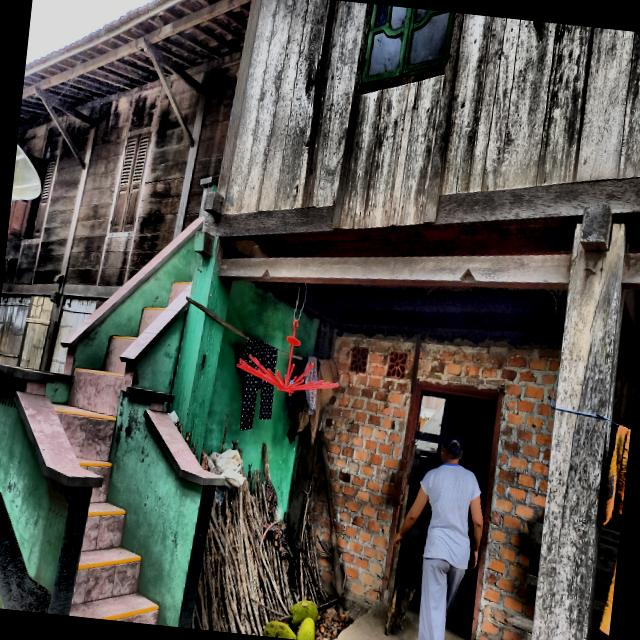column: (531, 220, 640, 640), (167, 233, 232, 462)
roof: (19, 0, 251, 125)
stair: (0, 175, 225, 628)
wall: (223, 0, 640, 213), (286, 335, 558, 640), (64, 95, 133, 284), (125, 85, 189, 282), (181, 63, 240, 231), (32, 136, 82, 283), (48, 297, 107, 373), (0, 295, 53, 370), (167, 79, 199, 135), (97, 237, 132, 285), (57, 114, 90, 162), (128, 87, 160, 132), (14, 243, 39, 283), (2, 234, 21, 283), (21, 124, 46, 158), (42, 119, 62, 159)
window: (361, 4, 455, 82), (108, 131, 152, 233), (7, 151, 57, 240)
